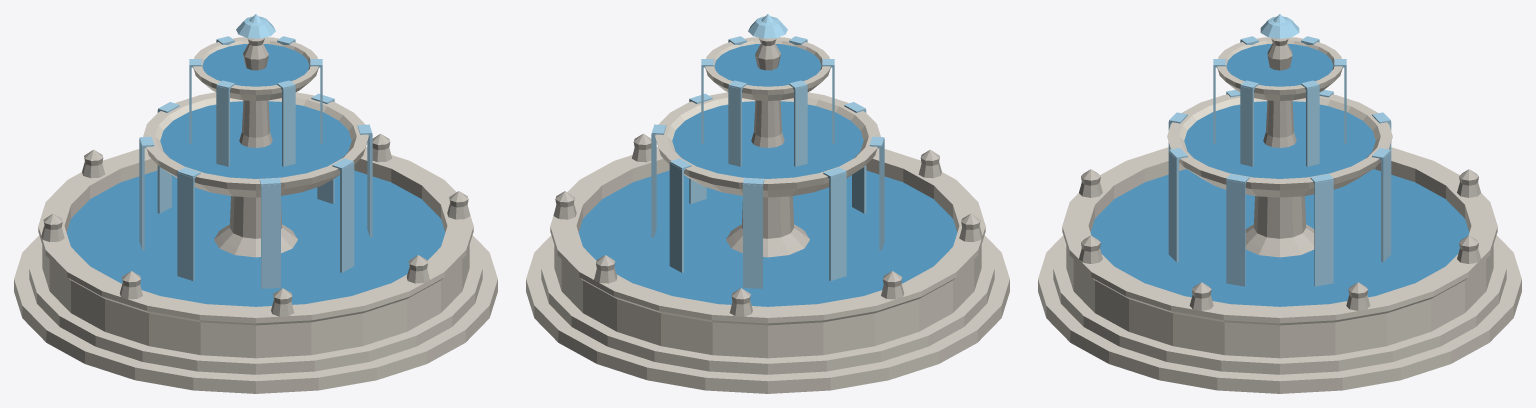
File: fountain.glb
The picture shows the model from 3 angles, left to right: view 1: azimuth 30°, elevation 25°; view 2: azimuth 150°, elevation 25°; view 3: azimuth 270°, elevation 25°; orthographic projection.
Parts seen in each view (by area): view 1: Fountain; view 2: Fountain; view 3: Fountain.
Boxes of the visible parts, x1,y1,x2,y2 form: Fountain: (14, 14, 497, 393); Fountain: (526, 14, 1009, 393); Fountain: (1038, 14, 1521, 393).
Bounding box in the file's own units: 4.8 × 3.04 × 4.8.
